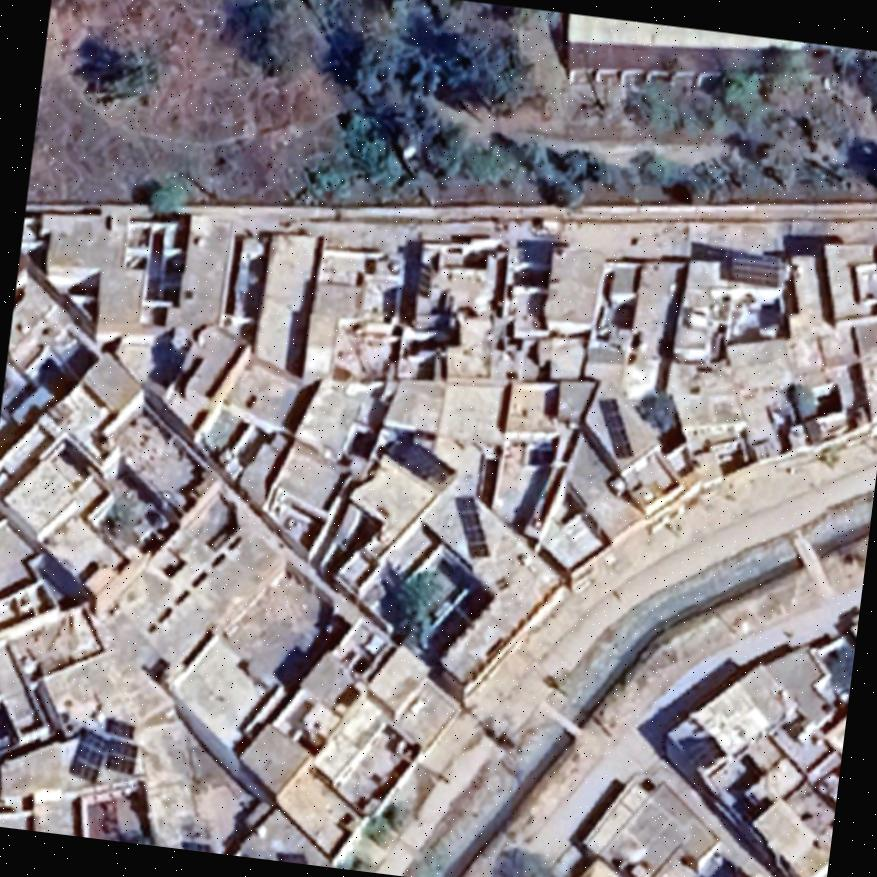Solarpanel: (61, 722, 142, 792), (722, 246, 786, 291), (596, 393, 634, 460), (451, 495, 486, 559)
